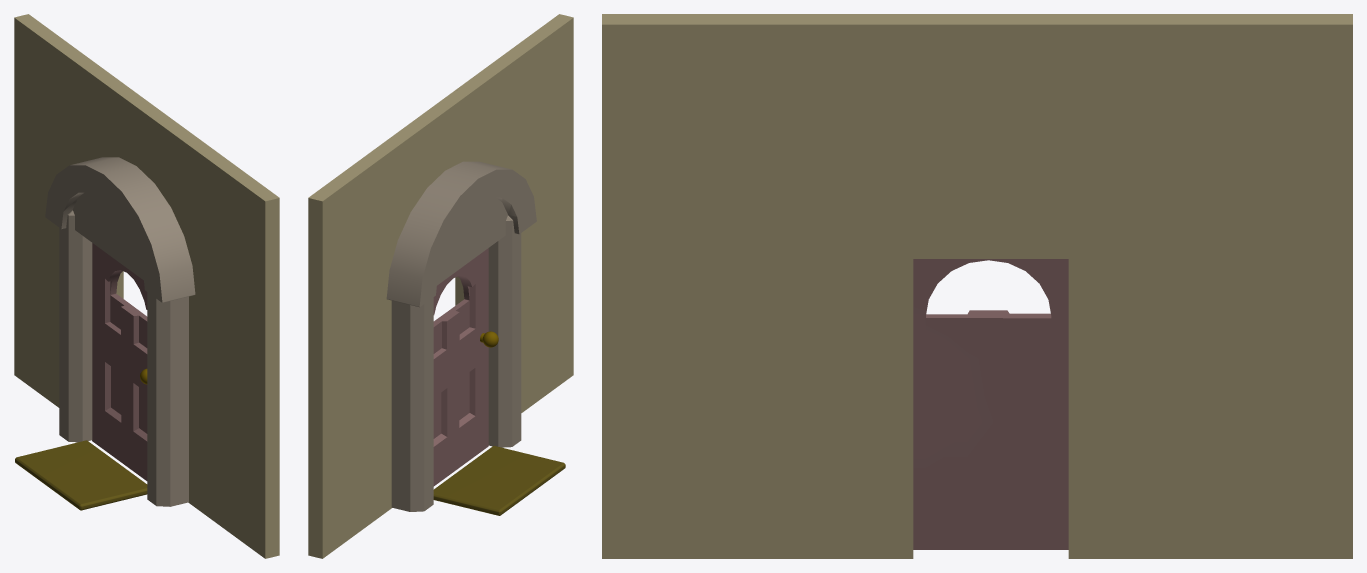
File: WA-door.fbx
The picture shows the model from 3 angles, left to right: view 1: azimuth 30°, elevation 25°; view 2: azimuth 150°, elevation 25°; view 3: azimuth 270°, elevation 25°; orthographic projection. The views are drawn at different scales.
Visible parts, largest first — view 1: pasted__pCube6 (×2), pCube6, pasted__pCylinder5, pCube3, pasted__pCube5, pCube8, pCube9; view 2: pCube6, pasted__pCube6 (×2), pasted__pCylinder5, pCube3, pCube8, pasted__pCube5, pCube9; view 3: pasted__pCube6 (×2), pCube6, pCube3.
Boxes of the visible parts, left/top/right/bottom form: pasted__pCube6 (×2): left=80, top=66, right=279, bottom=558; pCube6: left=14, top=14, right=123, bottom=407; pasted__pCylinder5: left=45, top=157, right=195, bottom=302; pCube3: left=92, top=243, right=147, bottom=480; pasted__pCube5: left=147, top=292, right=188, bottom=506; pCube8: left=59, top=210, right=92, bottom=442; pCube9: left=15, top=440, right=147, bottom=510; pCube6: left=308, top=128, right=417, bottom=558; pasted__pCube6 (×2): left=389, top=14, right=573, bottom=412; pasted__pCylinder5: left=386, top=161, right=536, bottom=307; pCube3: left=433, top=248, right=488, bottom=486; pCube8: left=391, top=297, right=433, bottom=511; pasted__pCube5: left=488, top=215, right=521, bottom=447; pCube9: left=433, top=446, right=565, bottom=515; pasted__pCube6 (×2): left=602, top=14, right=1155, bottom=558; pCube6: left=1068, top=14, right=1352, bottom=558; pCube3: left=913, top=259, right=1068, bottom=549.
Bounding box in the file's own units: 5.06 × 16.79 × 21.29.
